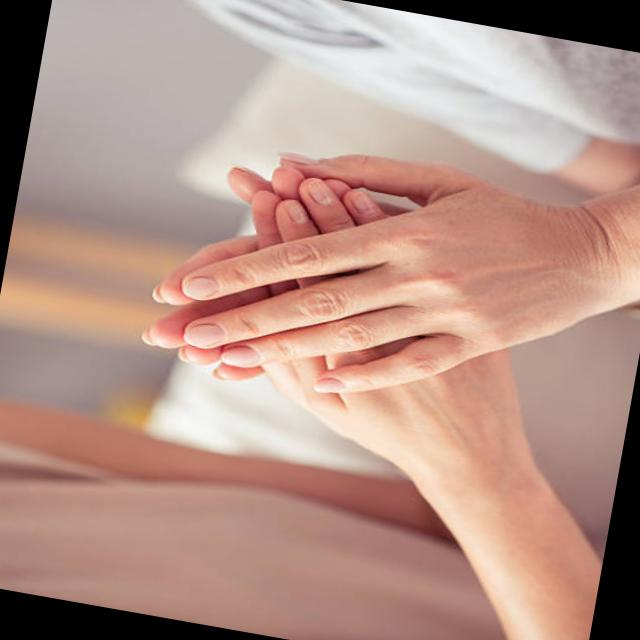Nail: (183, 323, 226, 347), (220, 344, 262, 366), (183, 274, 221, 298), (306, 179, 335, 203), (348, 188, 376, 212), (282, 199, 307, 222), (279, 151, 319, 164), (313, 377, 346, 392)
